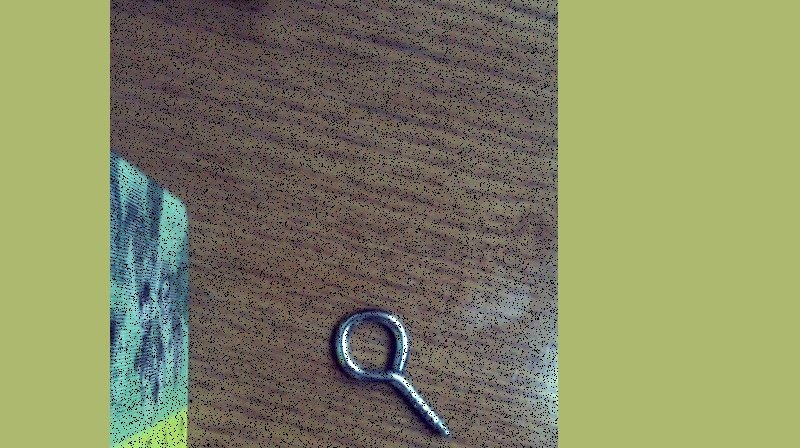O001: (328, 305, 455, 441)
